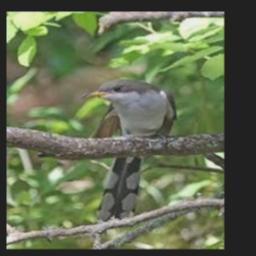Cuckoo: (81, 78, 177, 222)
